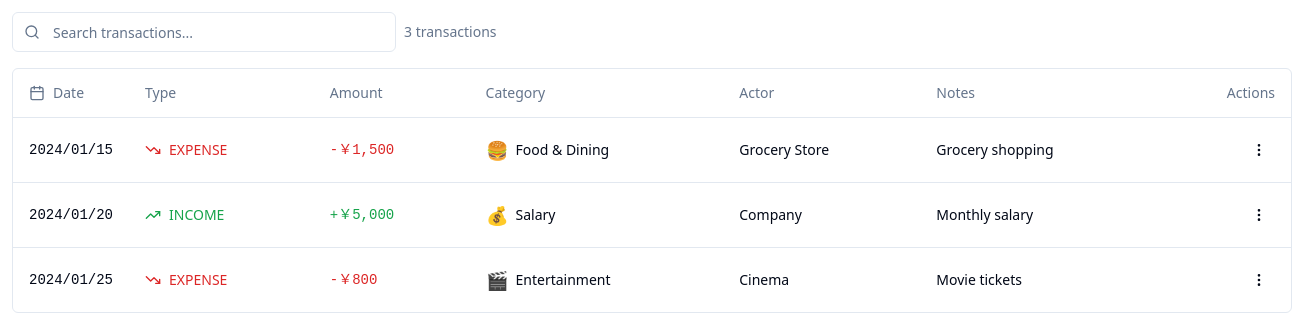
Scenario: TransactionsTable › Action buttons › should show edit and delete options in dropdown menu
What coordinates should you click on to do the following:
click the button named "open menu" in the row of "2024/01/15"
I would click on:
 (1259, 150)
Its box is [1243, 134, 1275, 166].
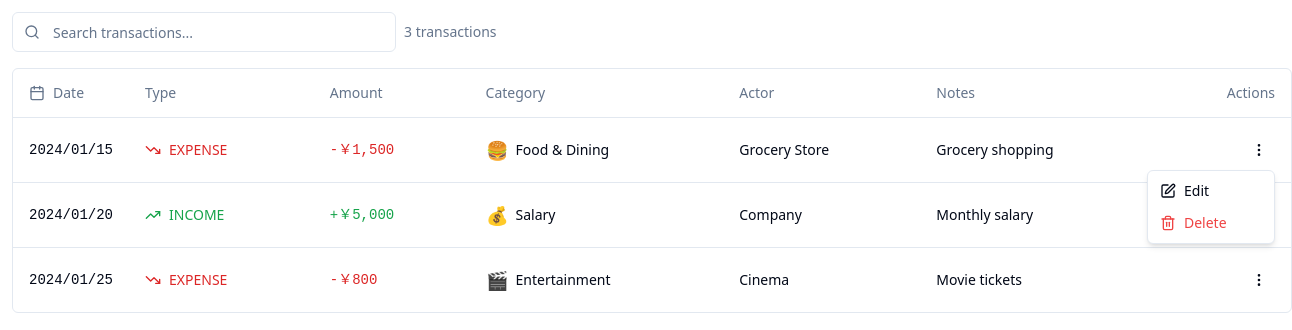
Check: the menu item "Edit" is shown, box [1160, 181, 1209, 200]
Check: the menu item "Delete" is shown, box [1160, 213, 1227, 232]
